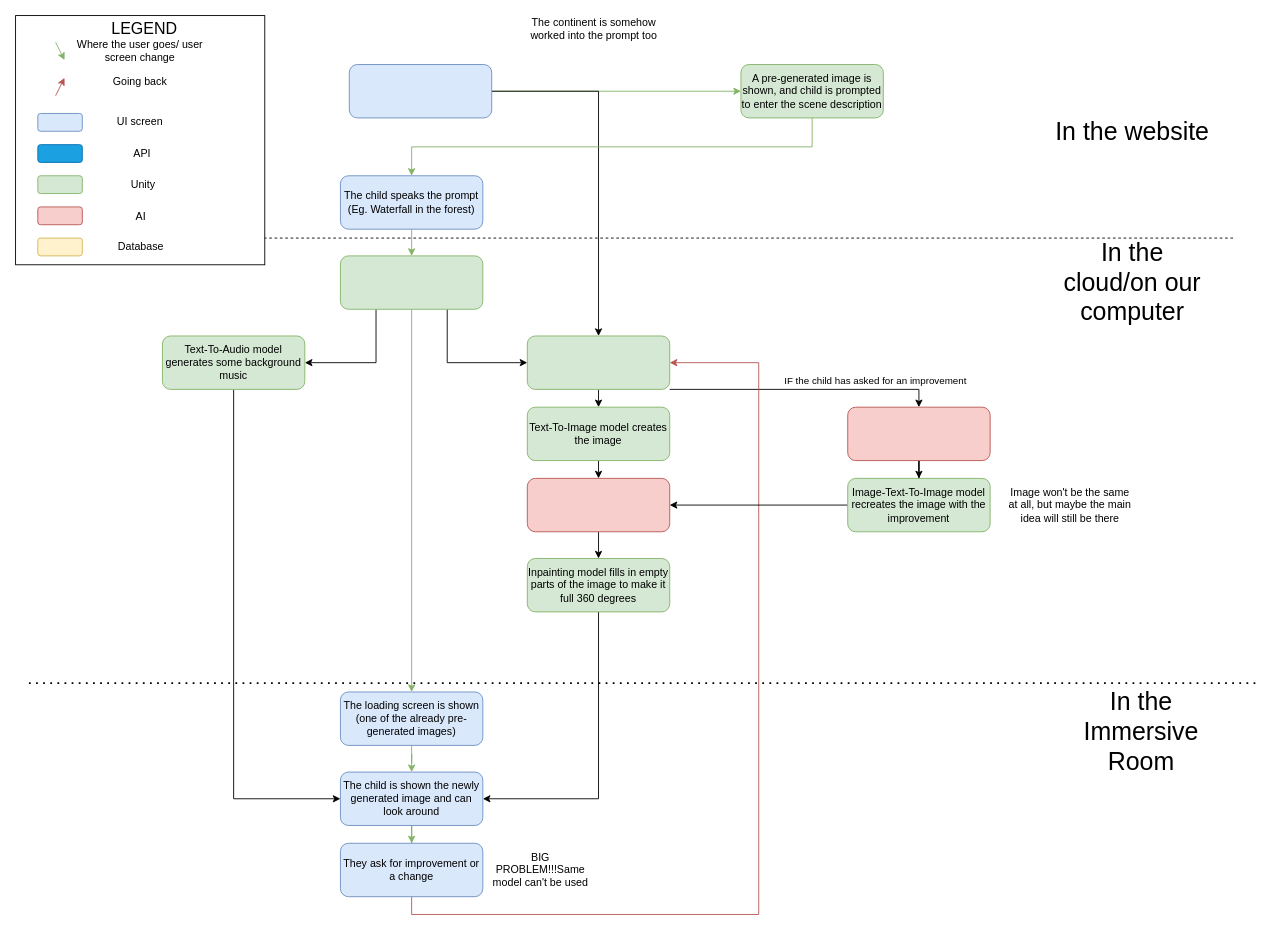
Image size: 1274x937. Some labels were removed from this diagram. The centre of each missing label's shape, as x and y in pixels:
Child chooses continent/general location by clicking: pixel 420 91
Image is preprocessed for the next model (ask me about it): pixel 598 504
Text-To-Text prompt enhancing model rewrites the prompt to create a better image: pixel 598 362
Voice-To-Text model captures the child's request: pixel 411 282
We get the original generated image: pixel 918 433
